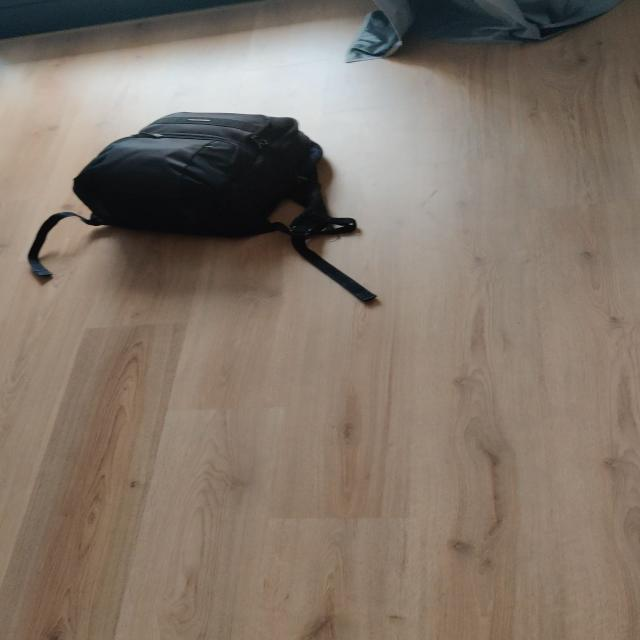backpack: (67, 104, 338, 244)
